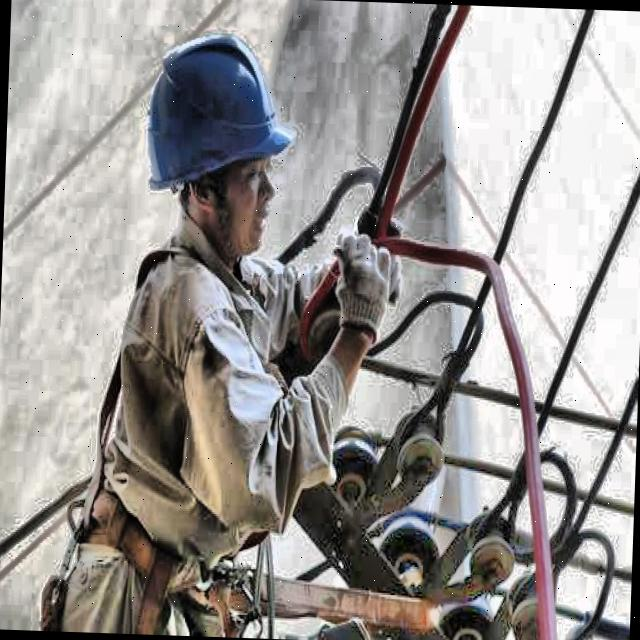helmet: (130, 17, 302, 276)
